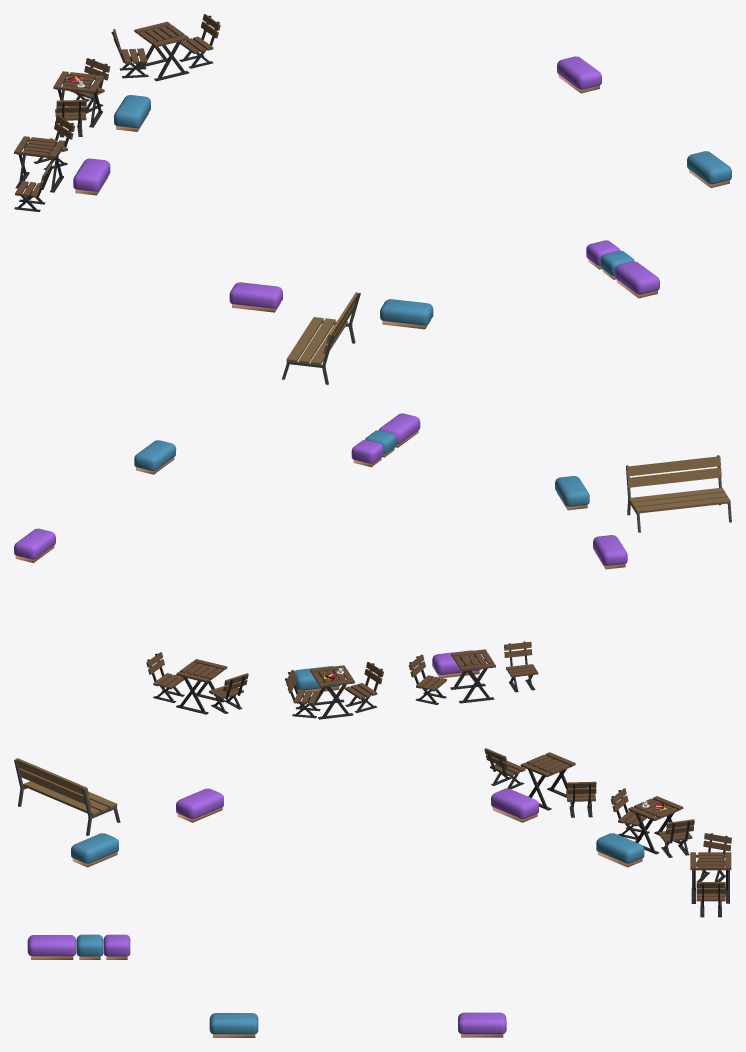
The model's file is dDShape Sampleroom - Deko.glb.
The picture shows the model from 3 angles, top to bottom: view 1: azimuth 30°, elevation 25°; view 2: azimuth 150°, elevation 25°; view 3: azimuth 270°, elevation 25°; orthographic projection. The views are drawn at different scales.
Visible parts, largest first — view 1: D-Room Deko Arcade; view 2: D-Room Deko Arcade; view 3: D-Room Deko Arcade.
Boxes of the visible parts, <box> form: D-Room Deko Arcade: <box>14,14,731,384</box>; D-Room Deko Arcade: <box>14,413,731,719</box>; D-Room Deko Arcade: <box>14,748,731,1037</box>.
Bounding box in the file's own units: 15.11 × 1.29 × 17.36.
Materials: 5 (3 with a texture image).
